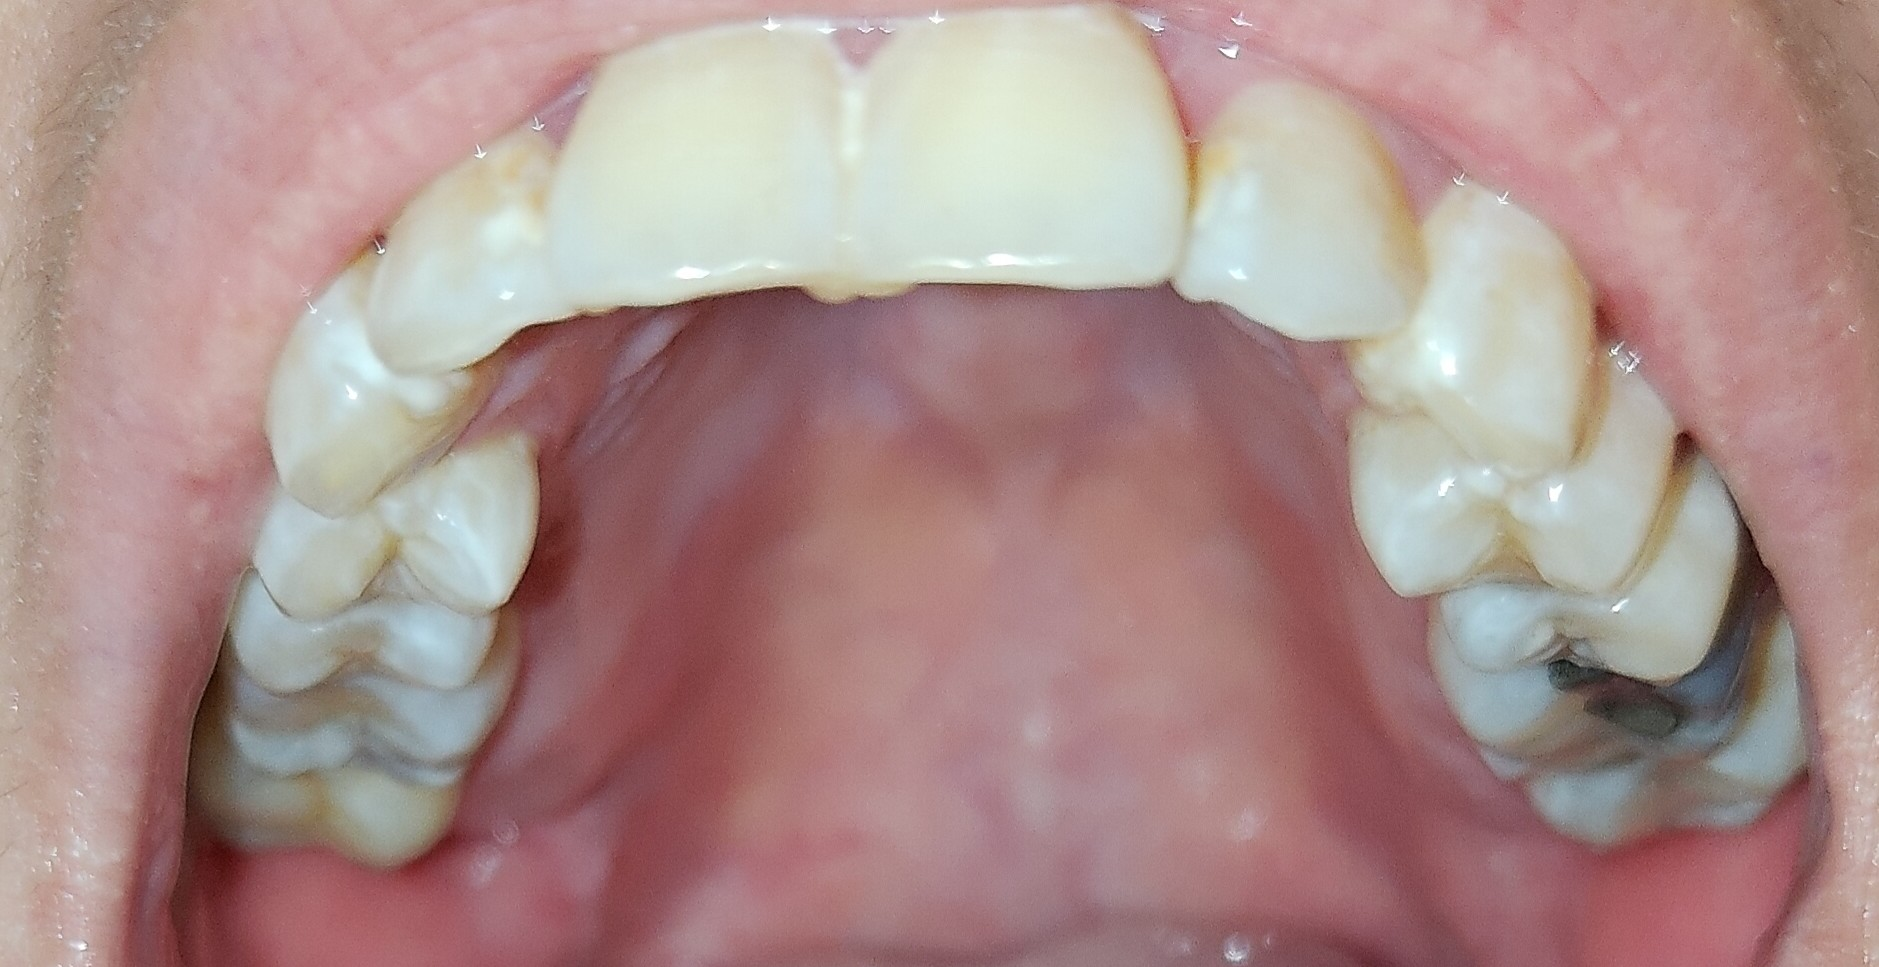teeth: (859, 16, 1185, 292), (560, 26, 858, 315), (1348, 358, 1683, 597), (1428, 566, 1768, 781), (1360, 179, 1604, 470), (1438, 463, 1736, 686), (1195, 81, 1428, 334), (254, 258, 488, 506), (1525, 650, 1800, 846), (249, 440, 539, 611), (375, 127, 573, 370), (191, 726, 462, 866), (222, 662, 508, 760), (234, 577, 488, 673)
